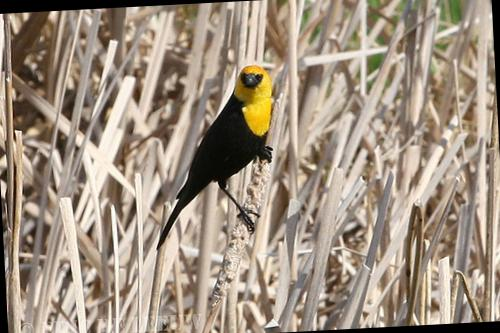bird: (136, 54, 286, 252)
